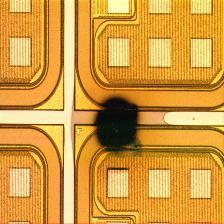PARTICLE: (88, 88, 151, 163)
